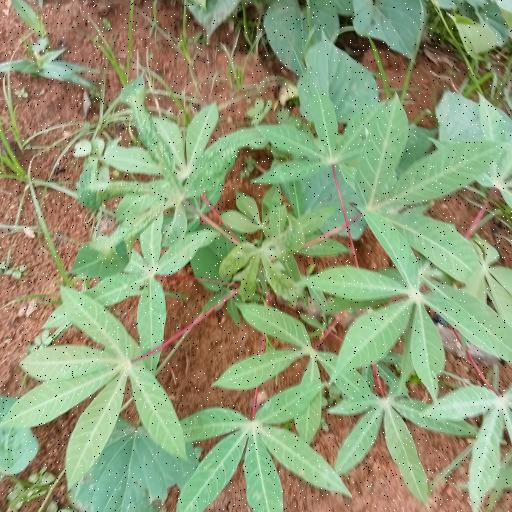Cassava_Mosaic: (64, 74, 273, 280), (3, 283, 193, 479)
